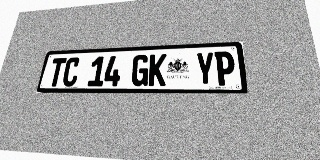1: (87, 56, 107, 86)
4: (103, 55, 122, 86)
C: (61, 57, 81, 86)
G: (131, 54, 149, 86)
K: (148, 54, 167, 86)
P: (214, 51, 236, 86)
T: (47, 58, 67, 87)
Y: (195, 52, 215, 86)
